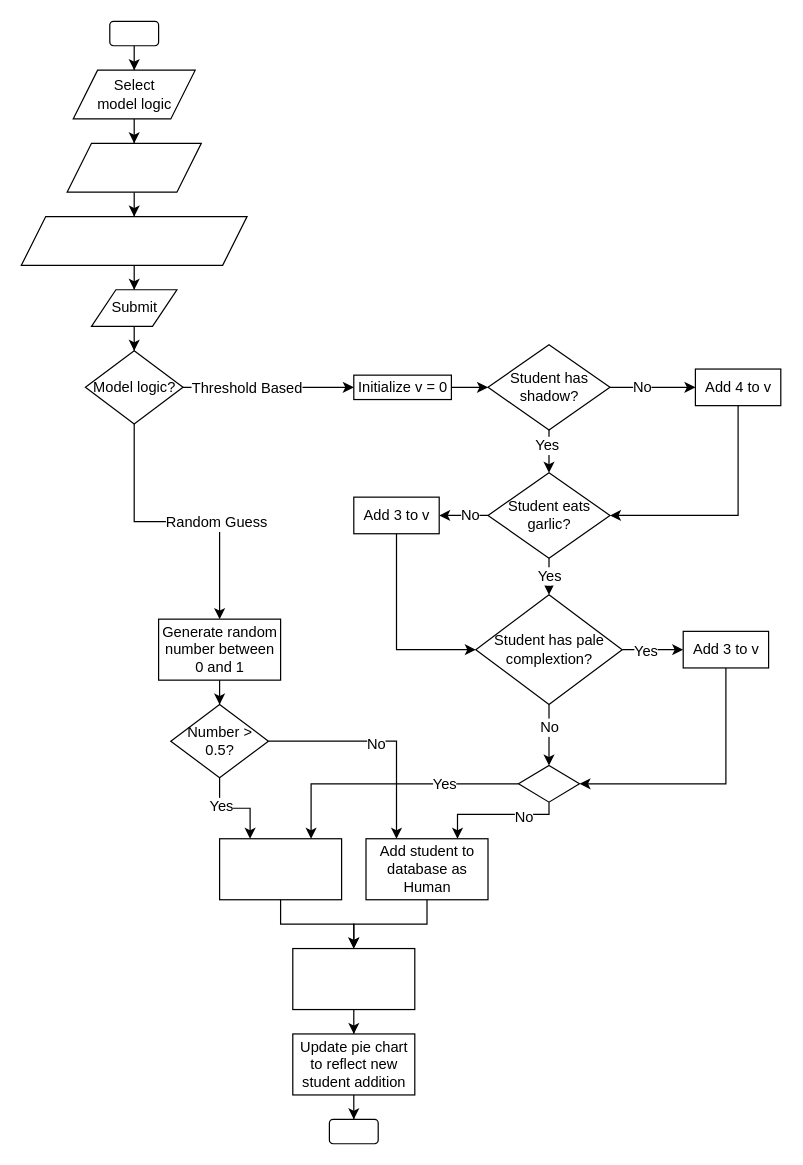
Some shapes in this 803 by 1165 pixel diagram are drawn without their labels. Each missing label, with the box of its shape:
Add student to database as Vampire: (218, 838, 342, 900)
End: (328, 1118, 378, 1144)
Enter student name: (66, 142, 201, 192)
Input student info (garlic, shadow, complexion): (20, 215, 247, 265)
Insert row with student name and status into table: (292, 947, 415, 1010)
Start: (109, 20, 159, 46)
v > 6?: (517, 764, 580, 802)
